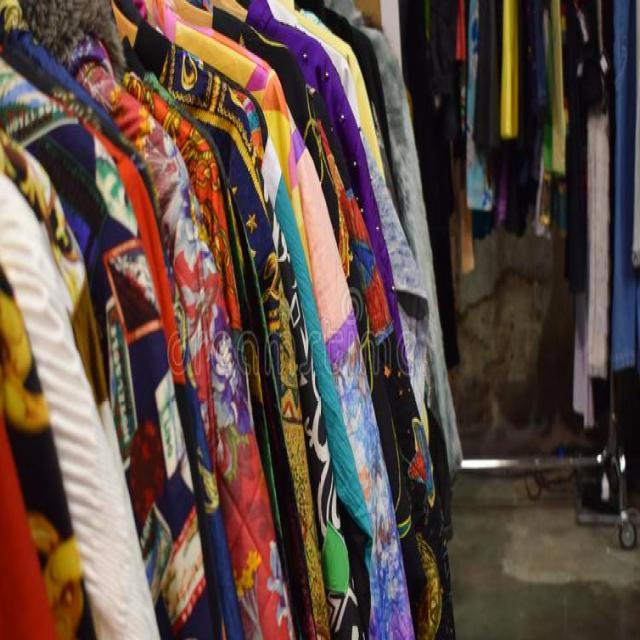clothes: (0, 0, 396, 640)
